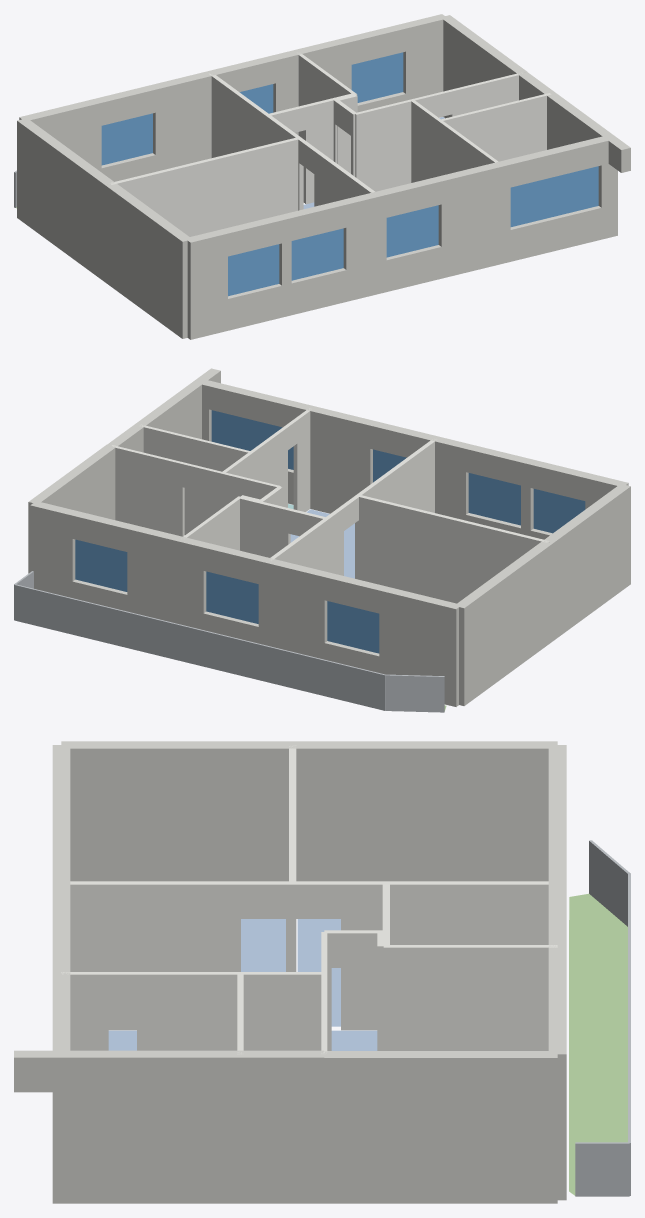
Rendered from Screenshot 2026-10-06 123356_3d.obj.
3 views of the same model, one above another, from view 1: azimuth 30°, elevation 25°; view 2: azimuth 150°, elevation 25°; view 3: azimuth 270°, elevation 25° (orthographic). The views are drawn at different scales.
Visible parts, largest first — view 1: wall_W8_20, wall_W13_37, wall_W14_38, wall_W11_32, wall_W1_3, wall_W6_16, wall_W9_21, wall_W10_22, wall_W10_28, window_N7_65, wall_W25_58, wall_W15_39 (+40 smaller); view 2: railing_R1_68, wall_W8_20, wall_W13_37, wall_W14_38, wall_W1_0, wall_W11_32, wall_W1_3, wall_W7_19, wall_W3_8, wall_W3_11, wall_W25_58, wall_W9_21 (+40 smaller); view 3: wall_W25_58, wall_W13_37, wall_W14_38, wall_W23_55, wall_W19_49, wall_W17_45, floor_R1_balcony_69, wall_W22_54, wall_W15_39, wall_W21_51, wall_W20_50, wall_W16_40 (+27 smaller).
Boxes of the visible parts, <box> form: wall_W8_20: <box>110,137,299,236</box>; wall_W13_37: <box>17,119,114,281</box>; wall_W14_38: <box>105,183,190,338</box>; wall_W11_32: <box>436,162,502,278</box>; wall_W1_3: <box>150,71,213,171</box>; wall_W6_16: <box>354,99,412,191</box>; wall_W9_21: <box>440,93,551,161</box>; wall_W10_22: <box>185,229,227,339</box>; wall_W10_28: <box>341,192,379,301</box>; window_N7_65: <box>510,166,598,226</box>; wall_W25_58: <box>441,15,527,118</box>; wall_W15_39: <box>209,73,269,157</box>; railing_R1_68: <box>14,584,385,710</box>; wall_W8_20: <box>357,495,548,603</box>; wall_W13_37: <box>454,541,553,705</box>; wall_W14_38: <box>544,484,630,640</box>; wall_W1_0: <box>379,586,459,706</box>; wall_W11_32: <box>309,406,375,513</box>; wall_W1_3: <box>266,558,330,659</box>; wall_W7_19: <box>112,445,184,536</box>; wall_W3_8: <box>127,524,184,623</box>; wall_W3_11: <box>30,501,77,597</box>; wall_W25_58: <box>28,444,115,573</box>; wall_W9_21: <box>140,424,251,534</box>; wall_W25_58: <box>324,1051,557,1203</box>; wall_W13_37: <box>292,741,557,881</box>; wall_W14_38: <box>61,741,292,881</box>; wall_W23_55: <box>61,1050,240,1203</box>; wall_W19_49: <box>383,945,557,1050</box>; wall_W17_45: <box>70,881,240,1030</box>; floor_R1_balcony_69: <box>569,893,627,1195</box>; wall_W22_54: <box>240,1050,324,1203</box>; wall_W15_39: <box>386,881,548,944</box>; wall_W21_51: <box>137,972,240,1050</box>; wall_W20_50: <box>240,972,323,1050</box>; wall_W16_40: <box>341,881,386,1030</box>.
Size of the model in its own units: 12.81 by 2.75 by 10.55.
